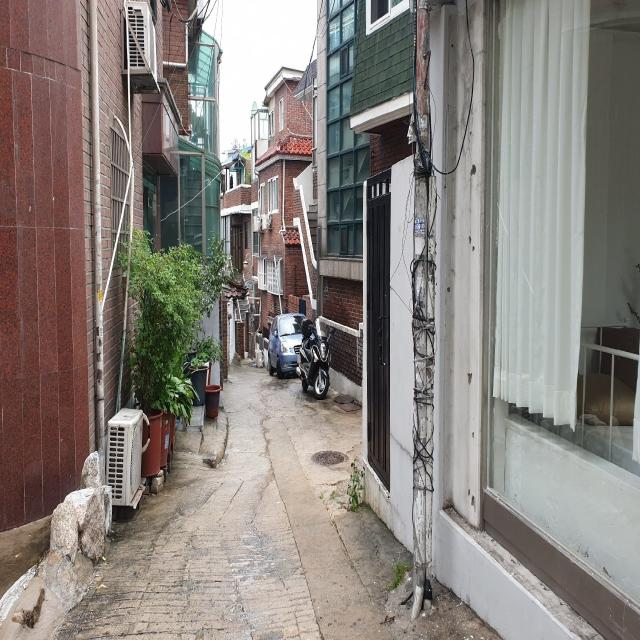car: (268, 313, 316, 379)
motorbike: (296, 318, 336, 400)
